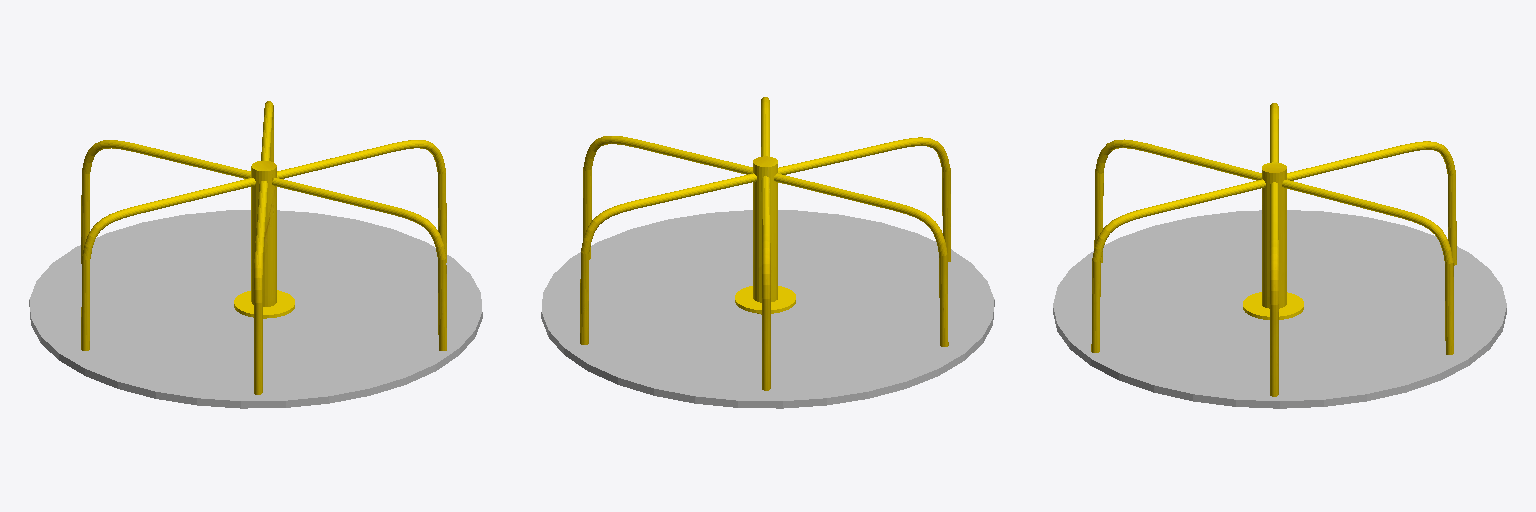
3 views of the same model, side by side, from view 1: azimuth 30°, elevation 25°; view 2: azimuth 150°, elevation 25°; view 3: azimuth 270°, elevation 25° (orthographic).
Parts seen in each view (by area): view 1: Base.001, FramePt2, FramePt1, Support, FramePt3, Base; view 2: Base.001, FramePt3, FramePt1, Support, FramePt2, Base; view 3: Base.001, FramePt2, FramePt3, FramePt1, Support, Base.
Part boxes in pixels (left/top/right/bottom): Base.001: left=29, top=210, right=482, bottom=408; FramePt2: left=81, top=140, right=446, bottom=350; FramePt1: left=81, top=140, right=446, bottom=350; Support: left=251, top=161, right=276, bottom=306; FramePt3: left=254, top=101, right=273, bottom=394; Base: left=234, top=290, right=294, bottom=318; Base.001: left=541, top=210, right=994, bottom=408; FramePt3: left=580, top=137, right=950, bottom=344; FramePt1: left=583, top=136, right=948, bottom=346; Support: left=753, top=156, right=777, bottom=314; FramePt2: left=761, top=97, right=770, bottom=390; Base: left=735, top=286, right=795, bottom=313; Base.001: left=1053, top=210, right=1506, bottom=408; FramePt2: left=1091, top=141, right=1456, bottom=352; FramePt3: left=1094, top=139, right=1453, bottom=354; FramePt1: left=1270, top=103, right=1278, bottom=396; Support: left=1262, top=162, right=1286, bottom=308; Base: left=1243, top=292, right=1303, bottom=319.
Bounding box in the file's own units: 11.89 × 5.25 × 11.89.
6 materials, 1 textured.